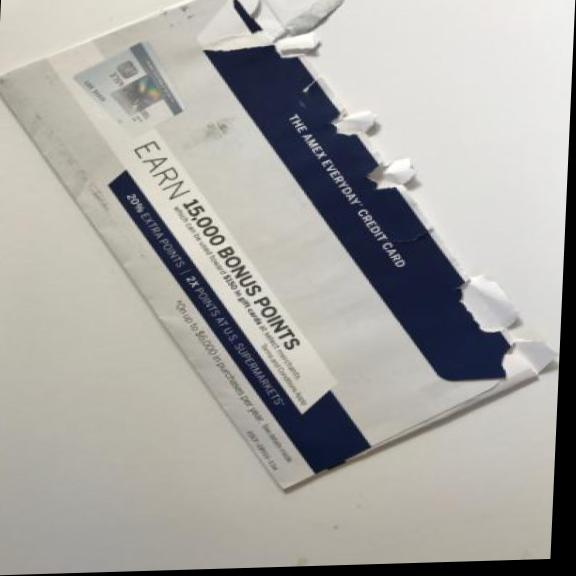Kertas: (0, 0, 576, 514)
